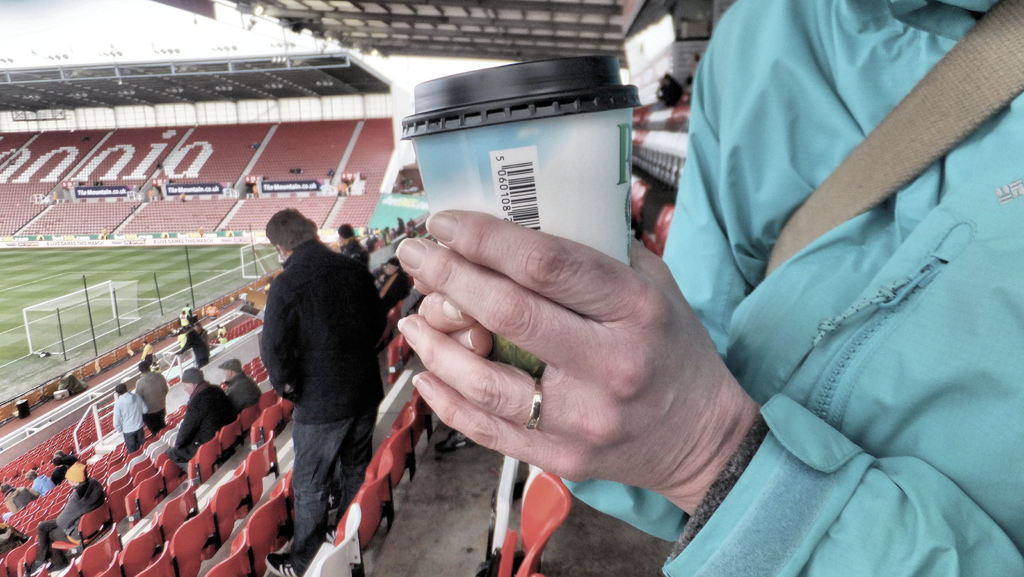Human_hand: (365, 199, 770, 529), (415, 244, 497, 358)
